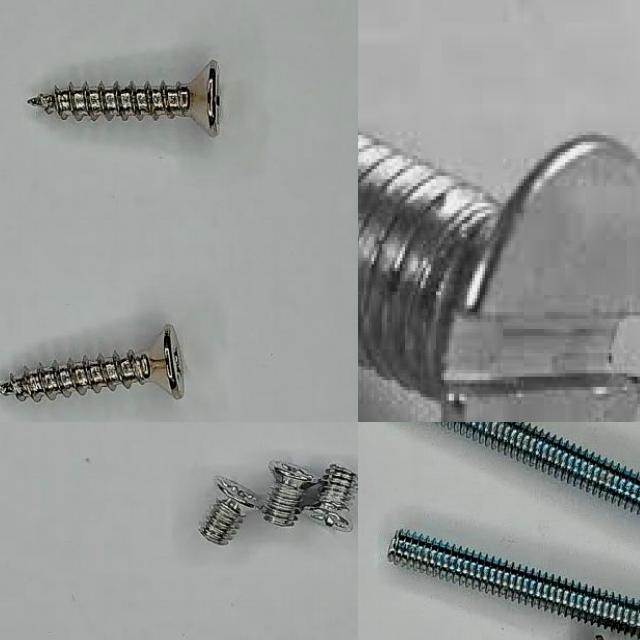Screw: (358, 124, 640, 422), (387, 529, 640, 639), (438, 422, 640, 513), (27, 60, 220, 136), (0, 326, 185, 403), (198, 477, 256, 546), (261, 461, 314, 527), (310, 464, 358, 533)
